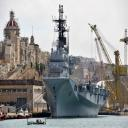Portanaves: (43, 6, 111, 121)
